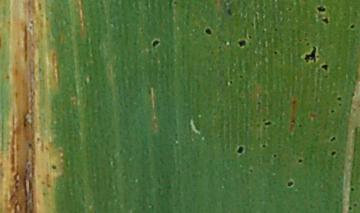tarspot: (300, 43, 320, 65), (314, 3, 328, 16), (236, 37, 249, 50), (234, 143, 246, 157), (150, 37, 162, 50), (202, 25, 214, 38), (320, 62, 331, 73), (48, 162, 60, 172), (260, 120, 274, 128), (328, 148, 338, 158), (285, 178, 294, 189), (320, 17, 331, 26), (347, 22, 358, 31), (258, 142, 270, 150), (226, 7, 233, 19), (271, 152, 280, 160), (289, 98, 298, 106), (295, 157, 305, 164), (329, 108, 336, 115), (329, 136, 337, 142), (238, 73, 244, 81), (289, 118, 297, 124), (349, 186, 355, 193), (272, 50, 279, 56), (228, 79, 234, 86), (297, 123, 304, 129), (337, 101, 342, 109), (352, 202, 358, 208), (336, 96, 343, 101), (273, 26, 278, 33), (347, 205, 351, 211)
